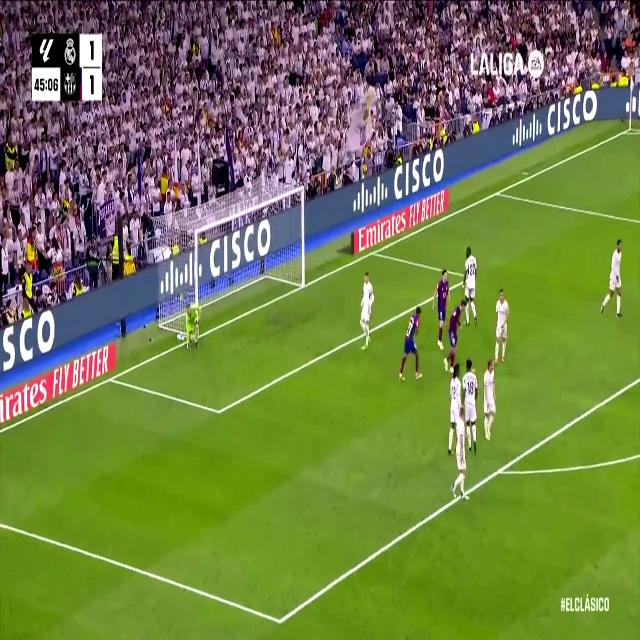bigarea_bottom_inner: (272, 602, 288, 637)
bigarea_bottom_outter: (108, 369, 116, 386)
bigarea_top_outter: (493, 184, 503, 202)
bottom_arc_area_intersection: (493, 455, 507, 484)
corner: (624, 121, 636, 138)
smallarea_bottom_inner: (213, 398, 224, 424)
